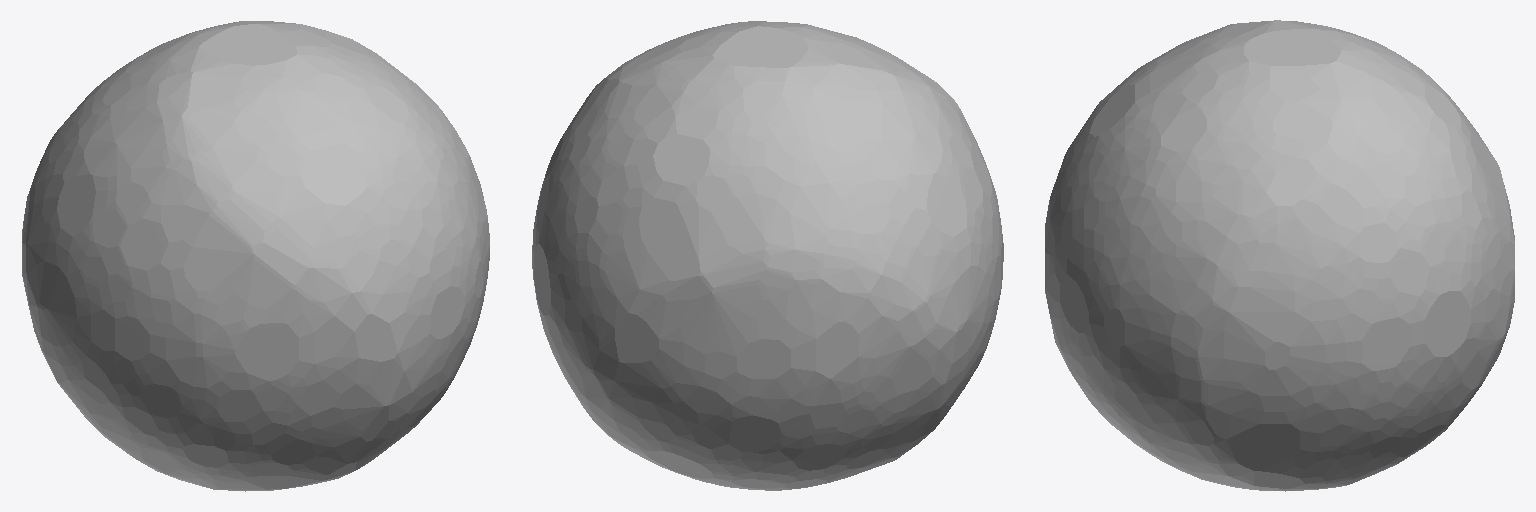
robot.urdf — root:
<robot name="root">
  <link name="link_coacd_convex_piece_0">
    <inertial>
      <origin xyz="0 0 0" rpy="0 0 0"/>
      <inertia ixx="1.25E+00" ixy="-8.18E-04" ixz="-8.43E-04" iyy="1.25E+00" iyz="-6.09E-03" izz="1.25E+00"/>
    </inertial>
    <visual>
      <origin xyz="0 0 0" rpy="0 0 0"/>
      <geometry>
        <mesh filename="coacd_convex_piece_0.obj" scale="1.0000E+00 1.0000E+00 1.0000E+00"/>
      </geometry>
      <material name="">
        <color rgba="7.50E-01 7.50E-01 7.50E-01 1"/>
      </material>
    </visual>
    <collision>
      <origin xyz="0 0 0" rpy="0 0 0"/>
      <geometry>
        <mesh filename="coacd_convex_piece_0.obj" scale="1.0000E+00 1.0000E+00 1.0000E+00"/>
      </geometry>
    </collision>
  </link>
</robot>

--- Render facts (derived) ---
The picture shows the robot from 3 angles, left to right: view 1: azimuth 30°, elevation 25°; view 2: azimuth 150°, elevation 25°; view 3: azimuth 270°, elevation 25°; orthographic projection.
Model root with 1 links and 0 joints (none), rooted at link_coacd_convex_piece_0, posed every joint at zero.
Visible links, largest first — view 1: link_coacd_convex_piece_0; view 2: link_coacd_convex_piece_0; view 3: link_coacd_convex_piece_0.
Link boxes in pixels (x1,y1,x2,y2): link_coacd_convex_piece_0: (22,21,489,491); link_coacd_convex_piece_0: (532,21,1003,490); link_coacd_convex_piece_0: (1045,20,1514,491).
Size in the robot's own frame: 1.91 by 1.91 by 1.87 metres.
Meshes: 1 distinct files referenced, 1 mesh visuals loaded (1 OBJ).